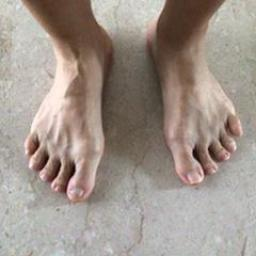Dorsal View -Both Feet-: (10, 14, 250, 220)
